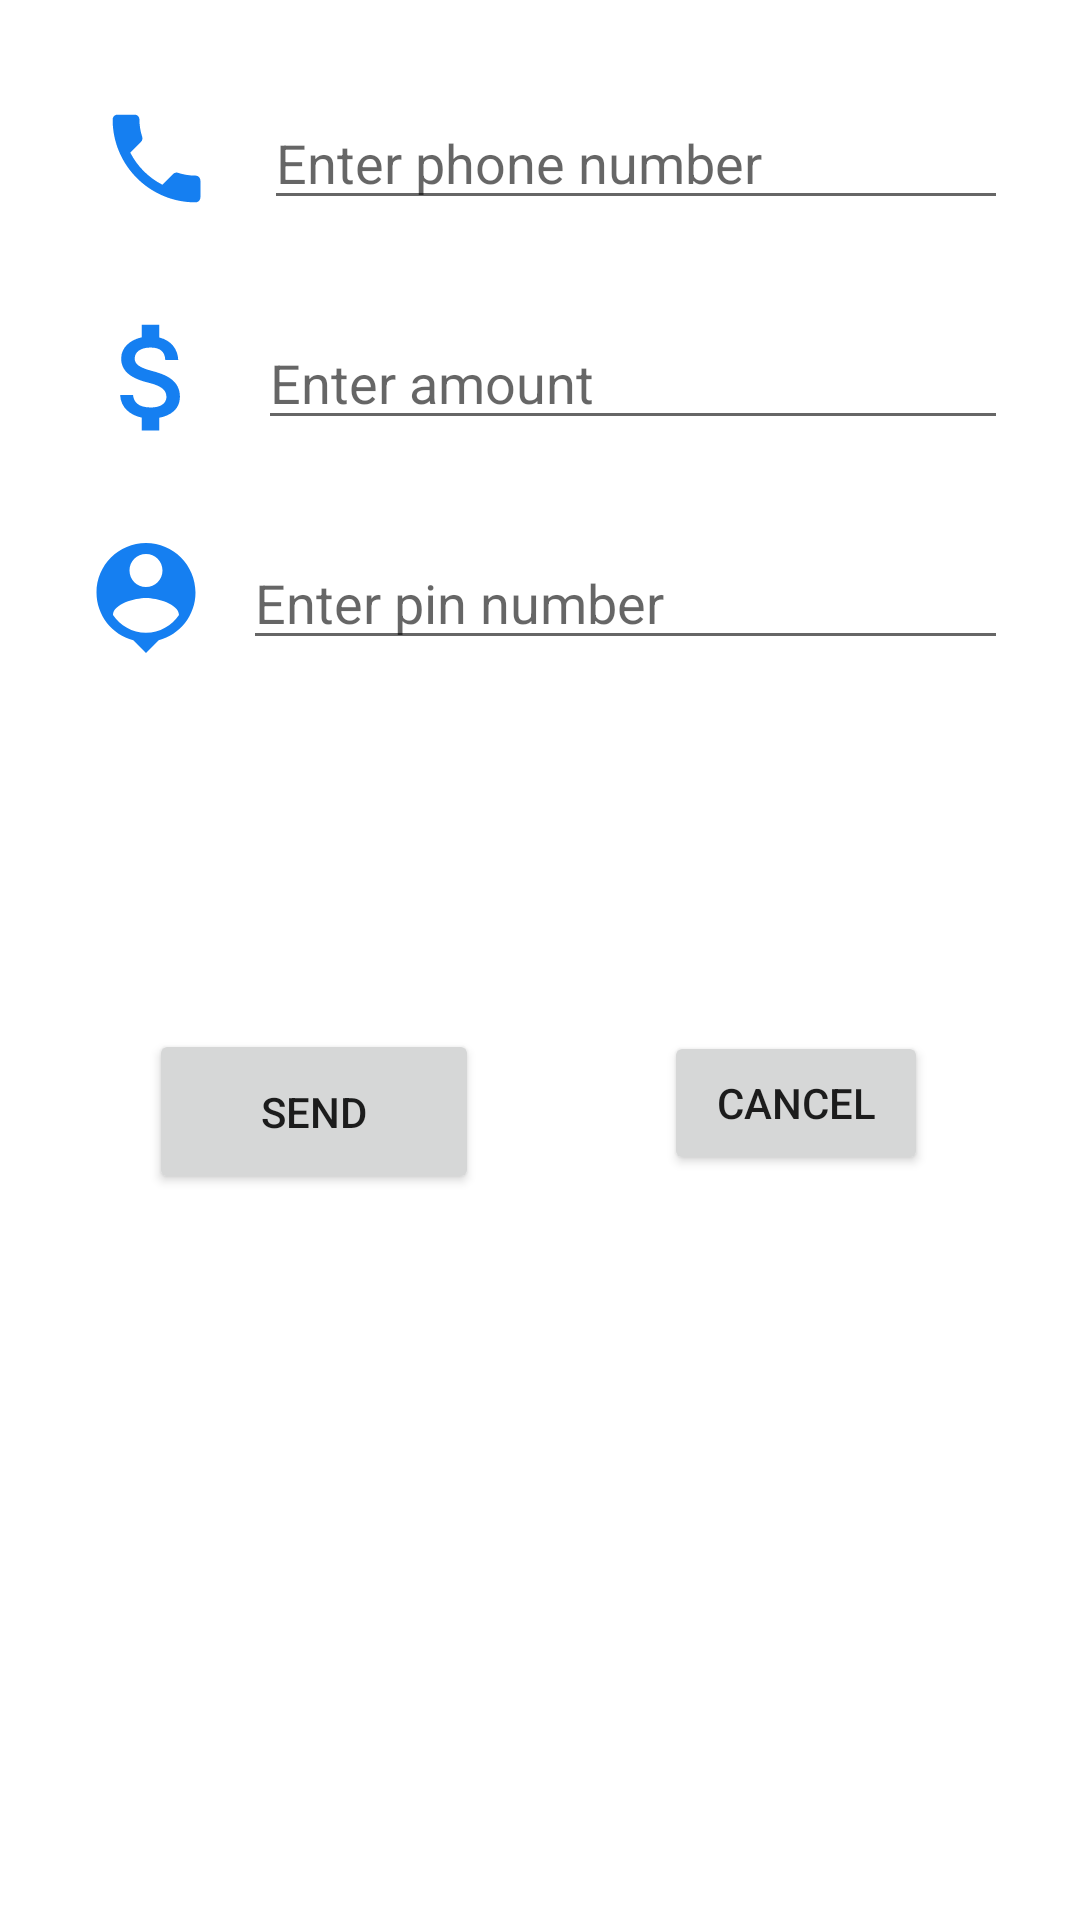

Point at icon controls on the screen. Image size 1080 × 1920, points as [x,y].
attach money: [150,377]
person pin: [146,598]
